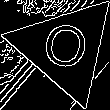O_S: (38, 19, 93, 78)
